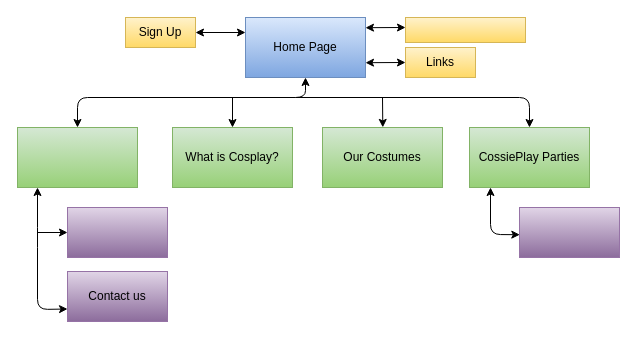
This 637x339 diagram has some shape labels left out. Here are the shapes that lost their labels. From the top down, the centre of each, then its label:
At (x=465, y=29): "Announcements".
At (x=77, y=157): "About CossiePlay".
At (x=117, y=232): "Who's Who".
At (x=569, y=232): "Party Guidlines".
